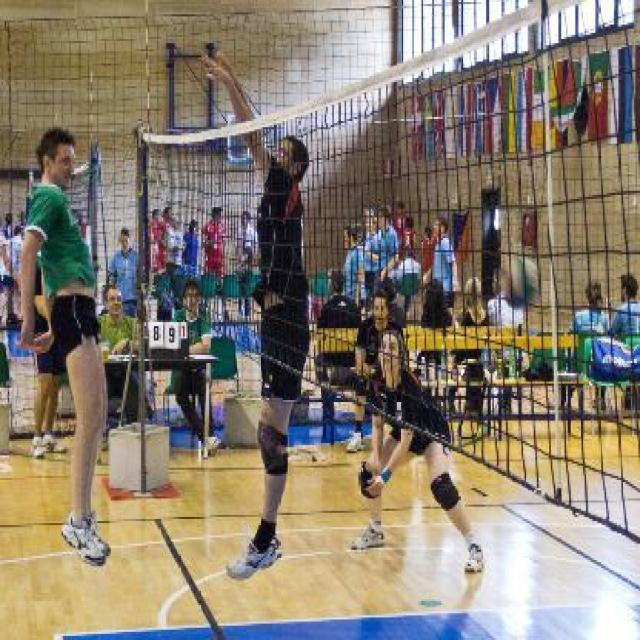volleyball: (501, 258, 538, 311)
